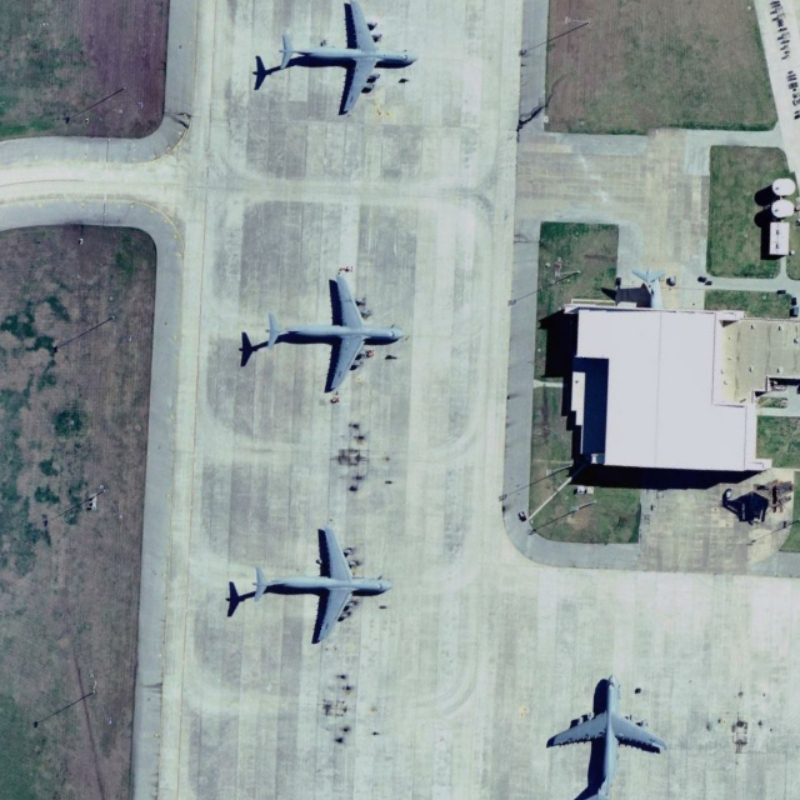A4: (254, 264, 406, 400), (246, 517, 395, 644), (271, 1, 419, 121), (543, 662, 670, 800)
